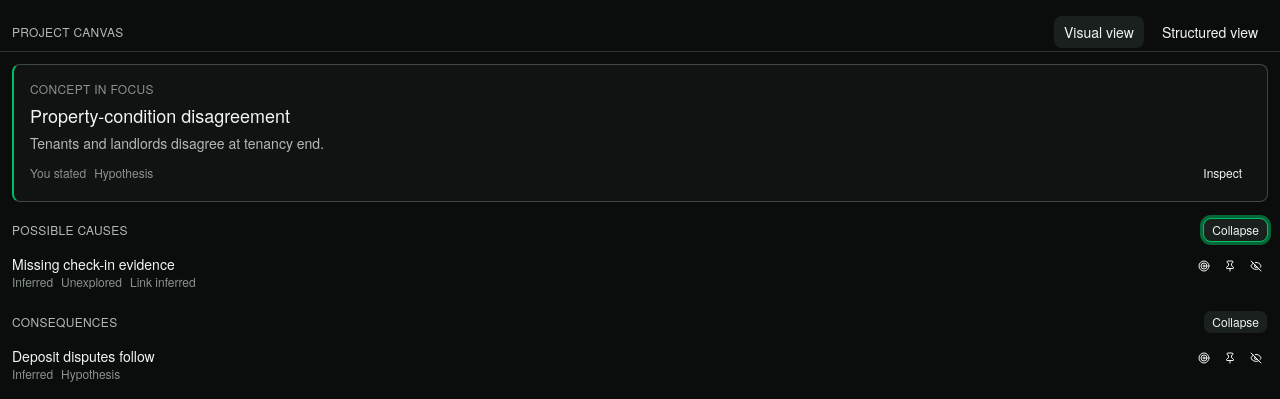
Test case: problem-exploration renderer › collapses a branch from the keyboard
Press Enter
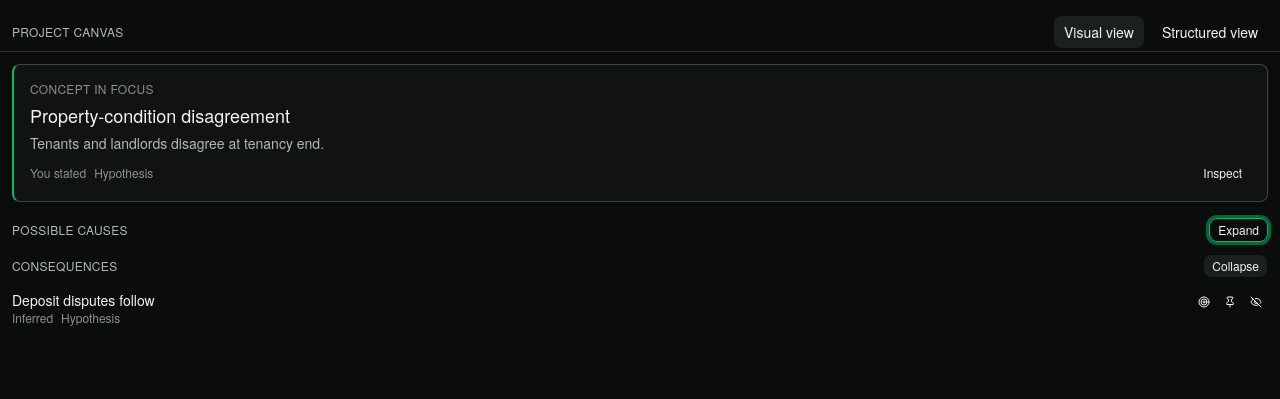
Check: the text "Missing check-in evidence" is gone
Click the button "Expand" at (1239, 230), box left=1209, top=218, right=1268, bottom=242
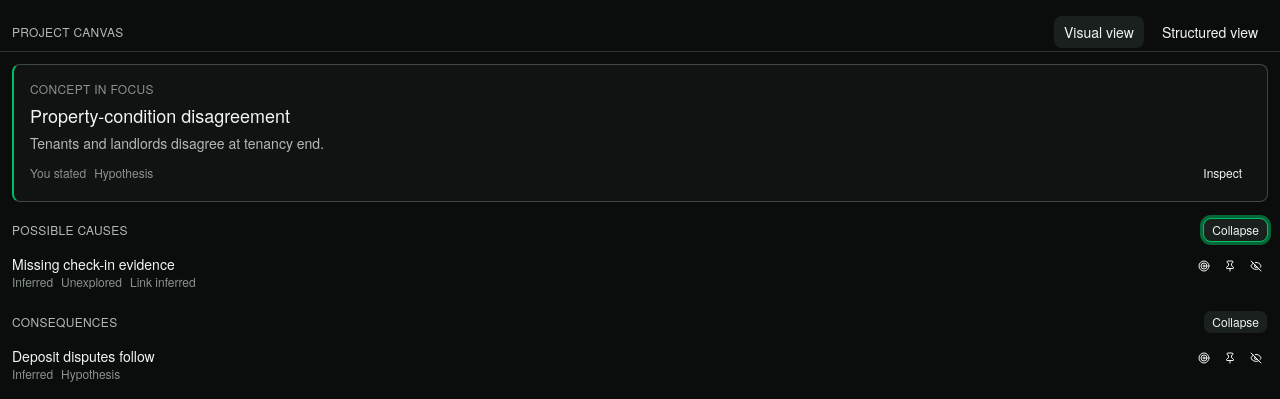
Check: the text "Missing check-in evidence" is shown, box left=12, top=254, right=196, bottom=274
